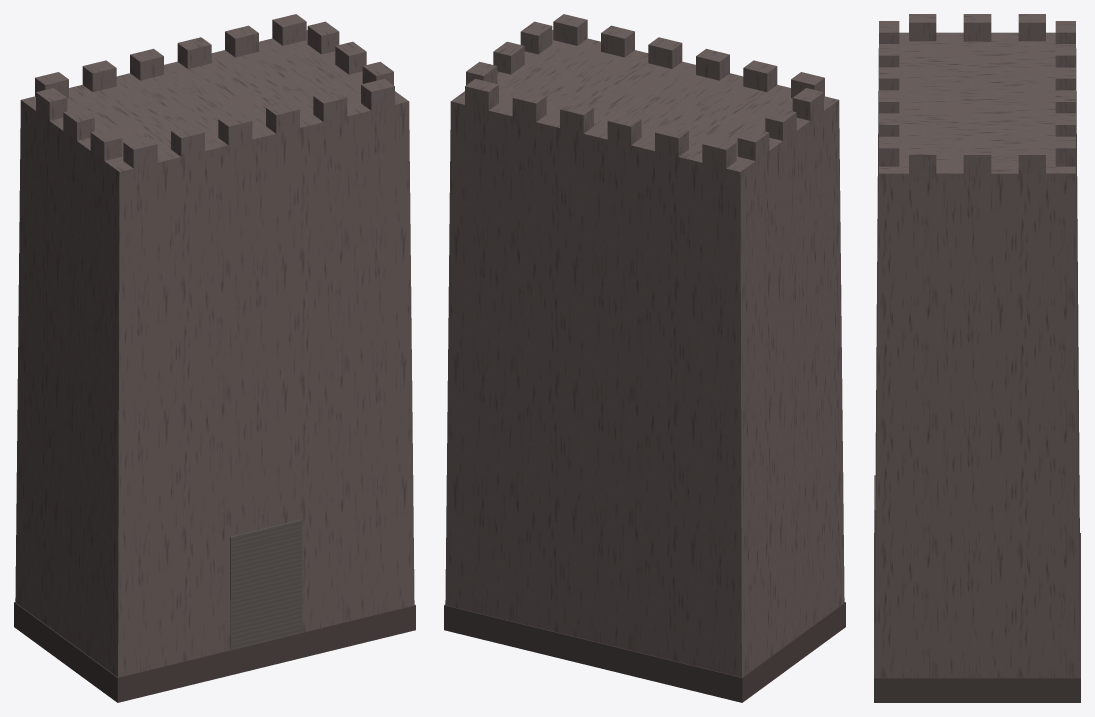
Rendered from SM_Souq_Warehouse_W5D30_Crenel.fbx.
3 renders of one model, left to right at view 1: azimuth 30°, elevation 25°; view 2: azimuth 150°, elevation 25°; view 3: azimuth 270°, elevation 25°, orthographic.
Parts seen in each view (by area): view 1: SM_Souq_Warehouse_W5D30_Crenel; view 2: SM_Souq_Warehouse_W5D30_Crenel; view 3: SM_Souq_Warehouse_W5D30_Crenel.
Boxes of the visible parts, x1=… form: SM_Souq_Warehouse_W5D30_Crenel: x1=14, y1=14, x2=415, y2=702; SM_Souq_Warehouse_W5D30_Crenel: x1=444, y1=14, x2=845, y2=702; SM_Souq_Warehouse_W5D30_Crenel: x1=874, y1=14, x2=1080, y2=702.
Bounding box in the file's own units: 502 × 880 × 302.
Materials: 3 (3 with a texture image).
